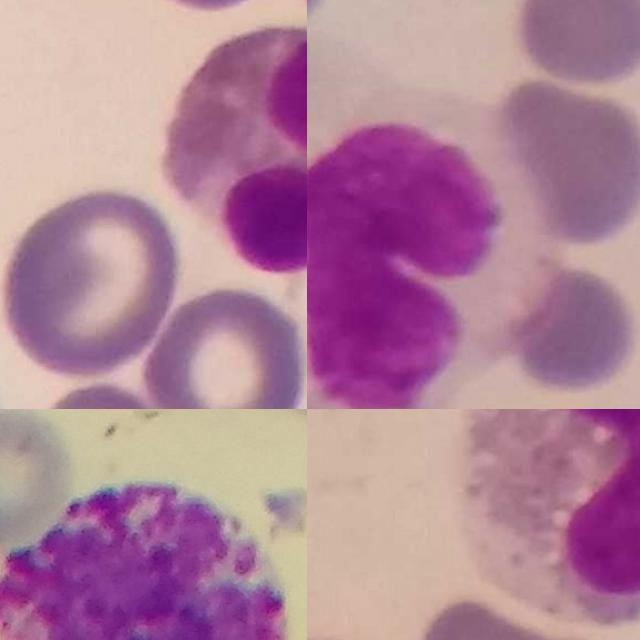Basophil: (0, 478, 290, 640)
Eosinophil: (462, 409, 640, 629), (161, 27, 307, 272)
Monocyte: (307, 73, 560, 409)
